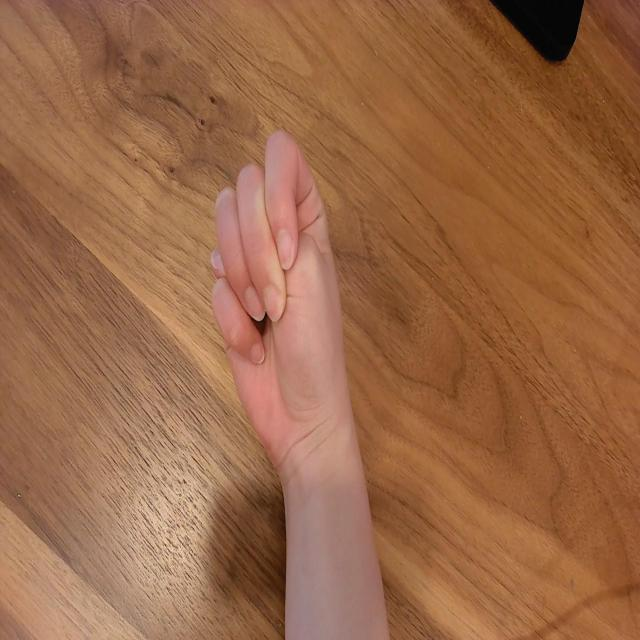M: (206, 124, 359, 469)
